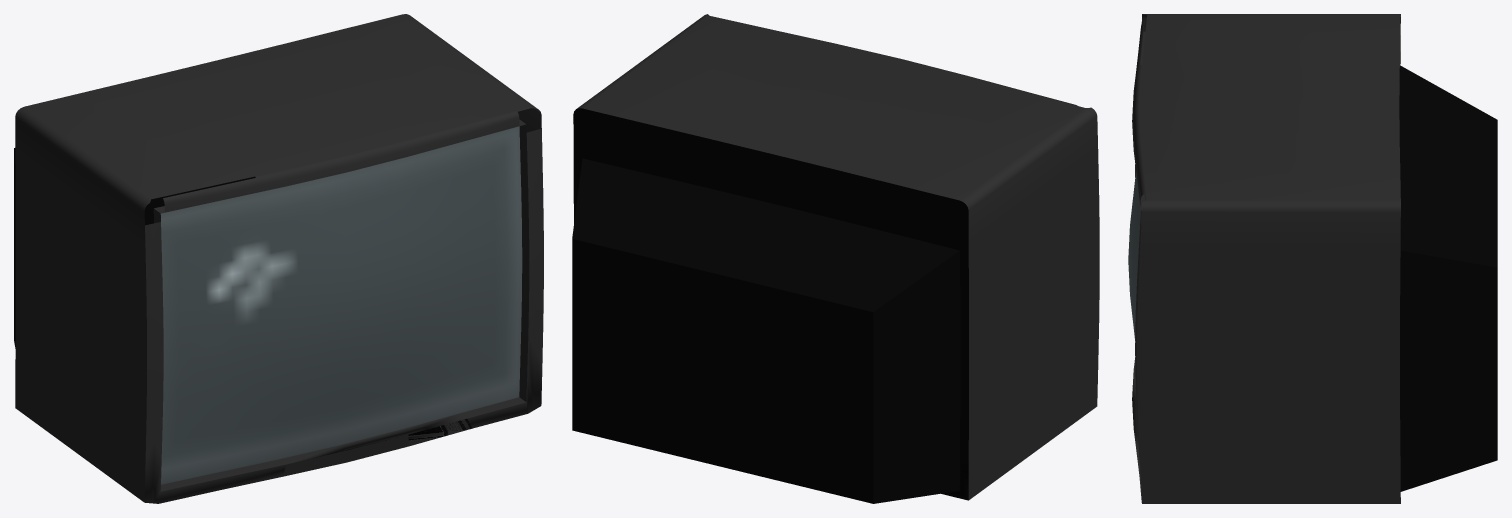
The model's file is Television.obj.
3 views of the same model, side by side, from view 1: azimuth 30°, elevation 25°; view 2: azimuth 150°, elevation 25°; view 3: azimuth 270°, elevation 25° (orthographic).
Visible parts, largest first — view 1: TV_Cube.002; view 2: TV_Cube.002; view 3: TV_Cube.002.
Boxes of the visible parts, left/top/right/bottom form: TV_Cube.002: left=14, top=14, right=543, bottom=503; TV_Cube.002: left=572, top=14, right=1099, bottom=503; TV_Cube.002: left=1128, top=14, right=1497, bottom=503.
Size of the model in its own units: 2.56 by 1.88 by 2.06.
Materials: 1 (1 with a texture image).
